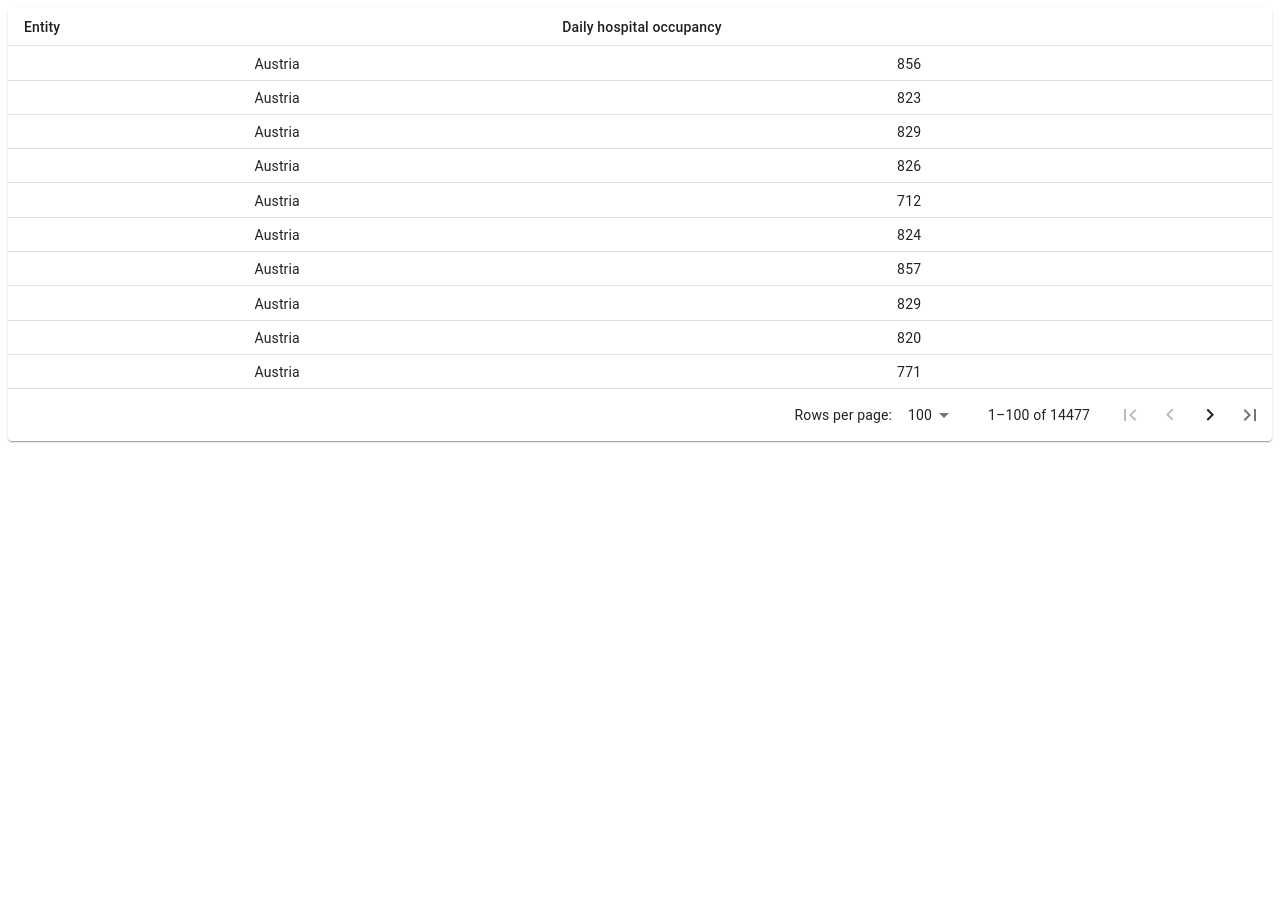
Test: PaginatedTable Component › should allow all rows
Press the mouse on the dropdown at coordinates (920, 415), box [908, 407, 932, 423]
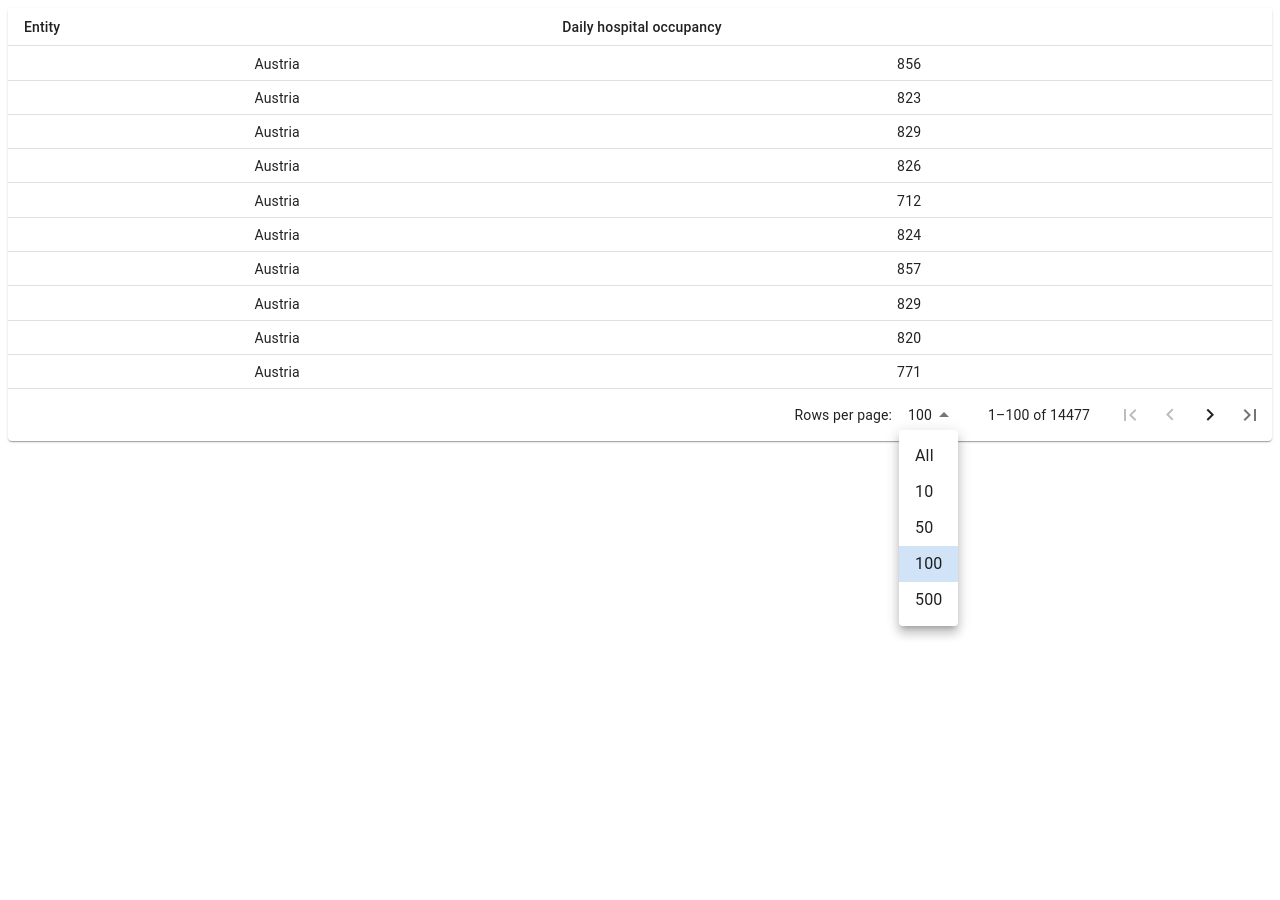
Expected: the option "All" is shown, [915, 446, 934, 465]
